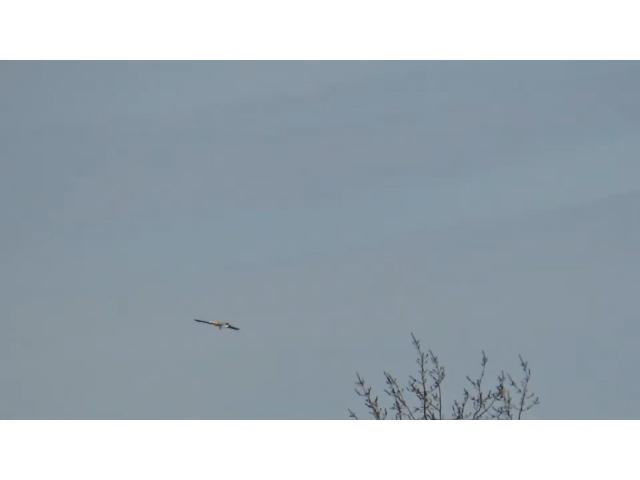Anti-Drone: (194, 320, 240, 330)
